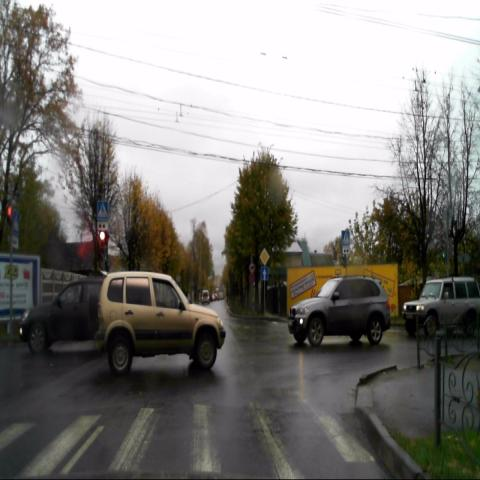2_1: (260, 248, 270, 265)
5_19_1: (97, 200, 108, 220), (341, 231, 350, 246)
